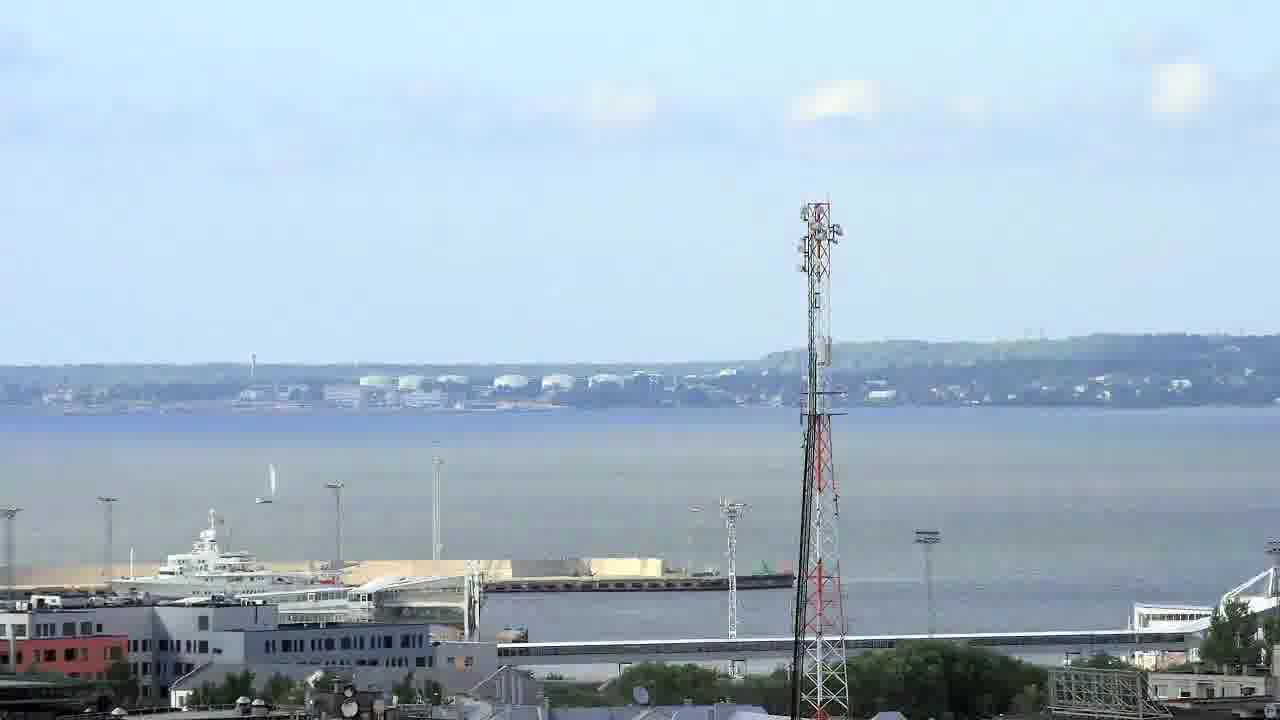type-2: (242, 452, 293, 512)
type-3: (84, 515, 355, 603)
